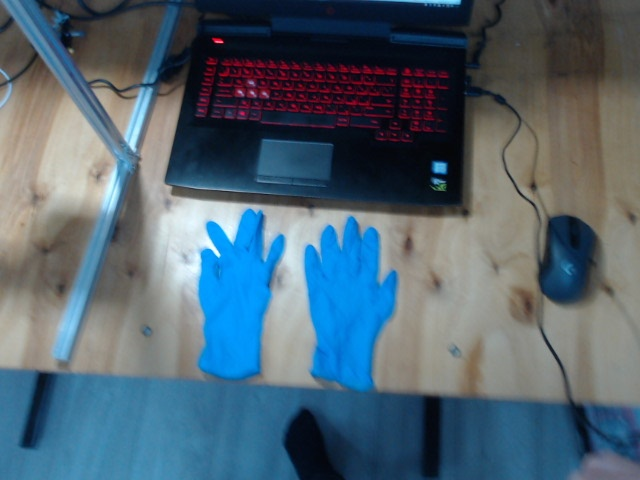medical_glove: (305, 217, 398, 388), (199, 209, 285, 377)
